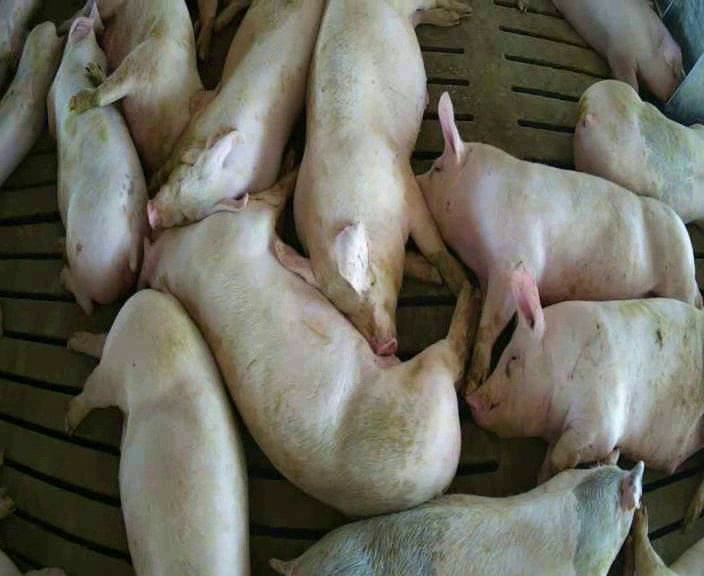pig: (136, 150, 477, 515), (418, 95, 699, 392), (273, 1, 471, 354), (66, 290, 248, 574), (467, 266, 703, 479), (271, 447, 643, 574), (48, 1, 146, 313), (575, 80, 703, 227), (555, 3, 683, 101), (0, 21, 62, 184)
